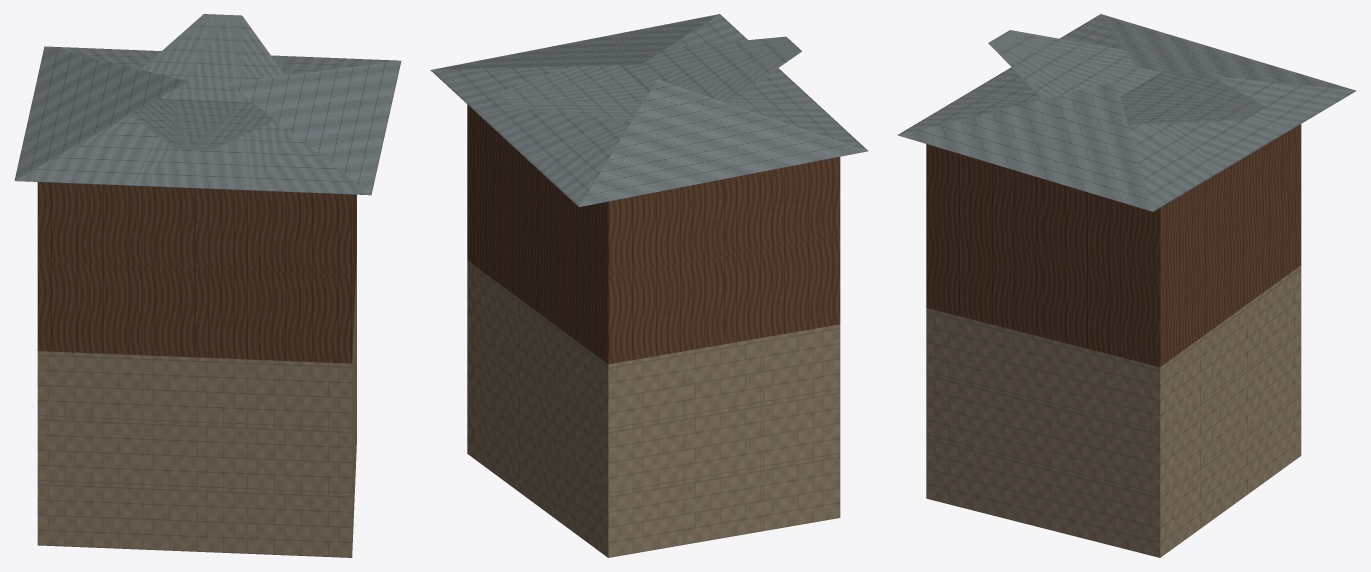
Rendered from bld_c5_-14_698.gltf.
3 renders of one model, left to right at view 1: azimuth 30°, elevation 25°; view 2: azimuth 150°, elevation 25°; view 3: azimuth 270°, elevation 25°, orthographic.
Parts seen in each view (by area): view 1: bld_c5_-14_698; view 2: bld_c5_-14_698; view 3: bld_c5_-14_698.
Boxes of the visible parts, box(x1,y1,x2,y2) form: bld_c5_-14_698: box(14, 14, 401, 557); bld_c5_-14_698: box(430, 14, 868, 557); bld_c5_-14_698: box(897, 14, 1356, 557).
Size of the model in its own units: 11.15 by 10.6 by 10.94.
3 materials, 3 textured.
